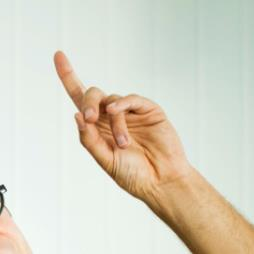up: (52, 50, 187, 198)
